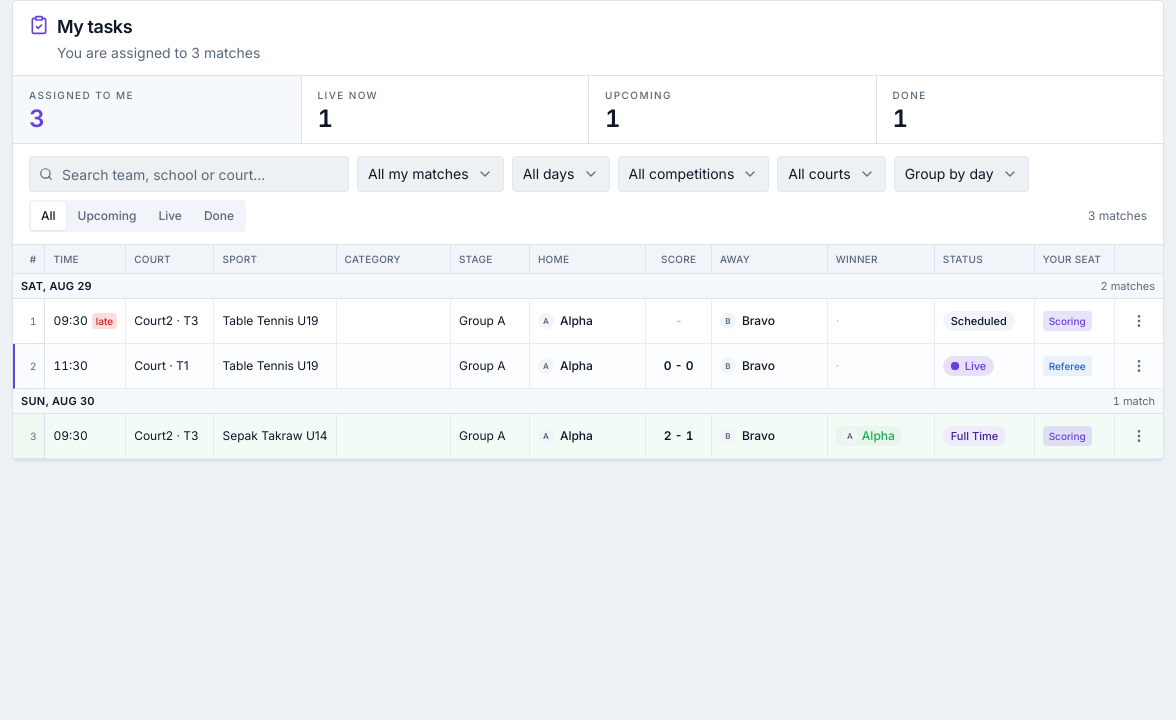
Test: MyTasksPage › filters hiding everything is a DIFFERENT state, with a way back
Expected: the element with test id "mytasks-list" is shown, [13,245,1163,459]
Step 1. Type "nothing matches this" into the field with test id "mytasks-search" → x=189, y=174, box [29,156,349,192]
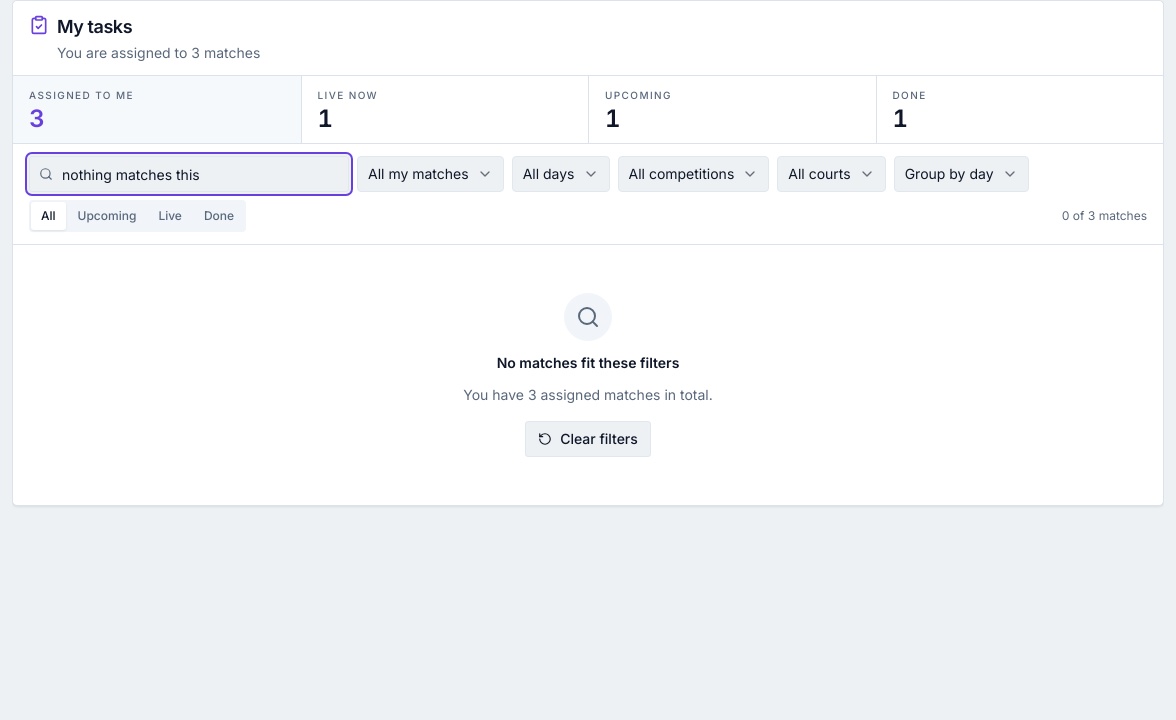
Expected: the element with test id "mytasks-stats" is shown, [13,76,1163,144]
Result: the element with test id "mytasks-no-results" shows "No matches fit these filters" at [497,354,679,371]
Result: the element with test id "mytasks-no-results" shows "You have 3 assigned matches" at [463,386,713,403]
Step 2. Click the button with test id "mytasks-no-results-reset" → x=588, y=439, box [525,421,651,457]
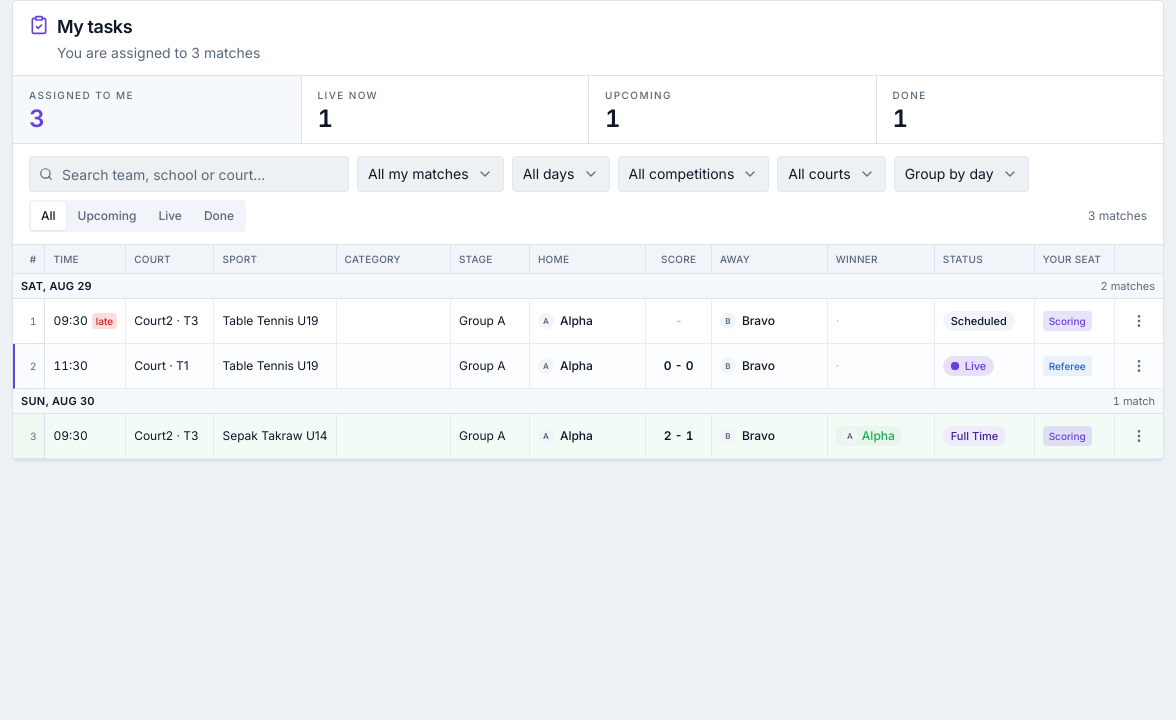
Result: the row with test id "tile-m1" is shown at [13,299,1163,344]
